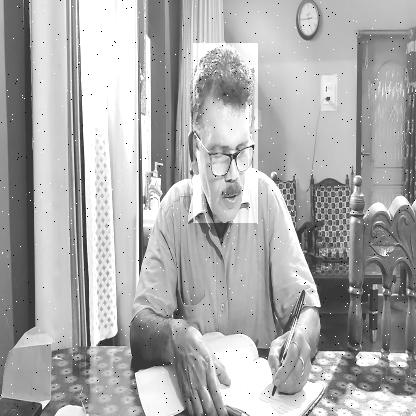Normal: (193, 43, 258, 223)
